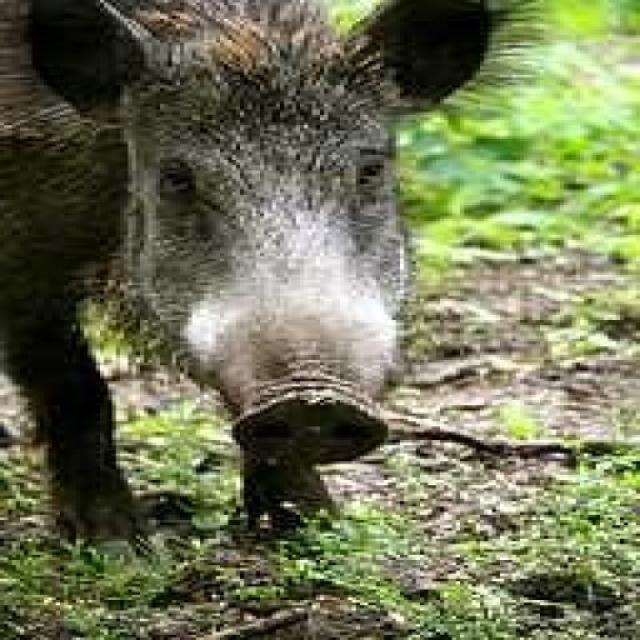pig: (0, 0, 500, 529)
